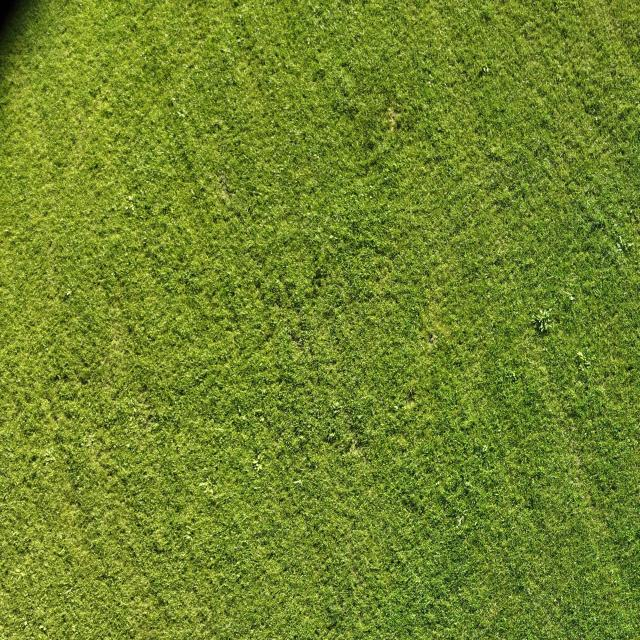rumex: (261, 269, 296, 316), (248, 312, 282, 359), (124, 194, 150, 221), (300, 280, 322, 308), (566, 426, 581, 466), (19, 612, 46, 633), (401, 489, 422, 515), (585, 218, 609, 239), (389, 16, 401, 53), (310, 266, 326, 290), (288, 330, 306, 349), (216, 171, 232, 192), (232, 66, 246, 89), (476, 66, 493, 84), (576, 350, 591, 370), (325, 600, 341, 618), (560, 288, 577, 301), (209, 121, 223, 136), (324, 429, 338, 443), (626, 434, 640, 448), (313, 66, 326, 81), (403, 397, 416, 412), (364, 136, 376, 152), (42, 449, 55, 463), (324, 619, 338, 632), (87, 160, 101, 172), (252, 459, 263, 474), (40, 399, 51, 414), (272, 278, 284, 291), (103, 108, 114, 120), (78, 374, 89, 386), (292, 127, 303, 138), (215, 426, 227, 436), (248, 188, 260, 198), (406, 388, 415, 401), (539, 318, 547, 332), (62, 289, 72, 300), (311, 4, 320, 16), (341, 554, 350, 566), (55, 544, 64, 556), (427, 332, 436, 344), (323, 215, 331, 228), (87, 432, 94, 446), (301, 210, 313, 218), (456, 516, 463, 529), (204, 486, 214, 495), (124, 203, 134, 212), (332, 402, 341, 412), (321, 245, 331, 254), (352, 8, 360, 19), (126, 324, 134, 335), (29, 453, 37, 464), (252, 10, 259, 22), (493, 258, 502, 267), (221, 47, 231, 55), (198, 481, 209, 488), (176, 110, 185, 118), (18, 570, 26, 579), (64, 583, 72, 592), (52, 374, 60, 383), (617, 240, 624, 250), (292, 479, 302, 486), (408, 205, 414, 216), (420, 102, 428, 110), (590, 106, 598, 114), (4, 228, 12, 236), (185, 526, 193, 534), (232, 0, 240, 8), (504, 185, 511, 194), (577, 350, 584, 359), (484, 270, 491, 279), (145, 473, 154, 480), (427, 72, 433, 82), (482, 444, 488, 454), (452, 618, 458, 628), (123, 194, 130, 202), (509, 371, 516, 379), (252, 458, 259, 466), (313, 152, 320, 160), (184, 534, 191, 542), (183, 278, 190, 286), (427, 80, 433, 89), (595, 114, 601, 123), (114, 402, 120, 411), (142, 240, 148, 249), (70, 624, 76, 633), (238, 14, 244, 22), (260, 416, 266, 424), (190, 189, 196, 197), (576, 380, 582, 388), (74, 474, 80, 482), (393, 404, 399, 412), (127, 194, 133, 202), (224, 622, 232, 628), (128, 416, 134, 423), (241, 414, 247, 421), (306, 39, 312, 46), (584, 187, 590, 194), (328, 358, 334, 365), (319, 23, 324, 31), (193, 64, 198, 72), (543, 345, 548, 353), (23, 620, 28, 628), (483, 66, 489, 72), (490, 178, 495, 185), (593, 113, 598, 120), (587, 126, 592, 133), (133, 406, 137, 414), (368, 185, 374, 190), (172, 97, 176, 104), (236, 37, 240, 44), (78, 2, 82, 9), (126, 443, 130, 449), (369, 195, 373, 201), (637, 229, 640, 236)
